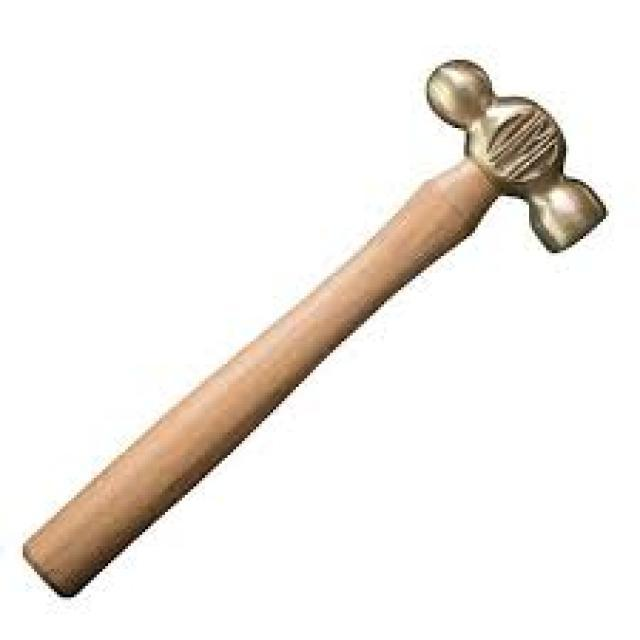Palu: (24, 56, 606, 608)
